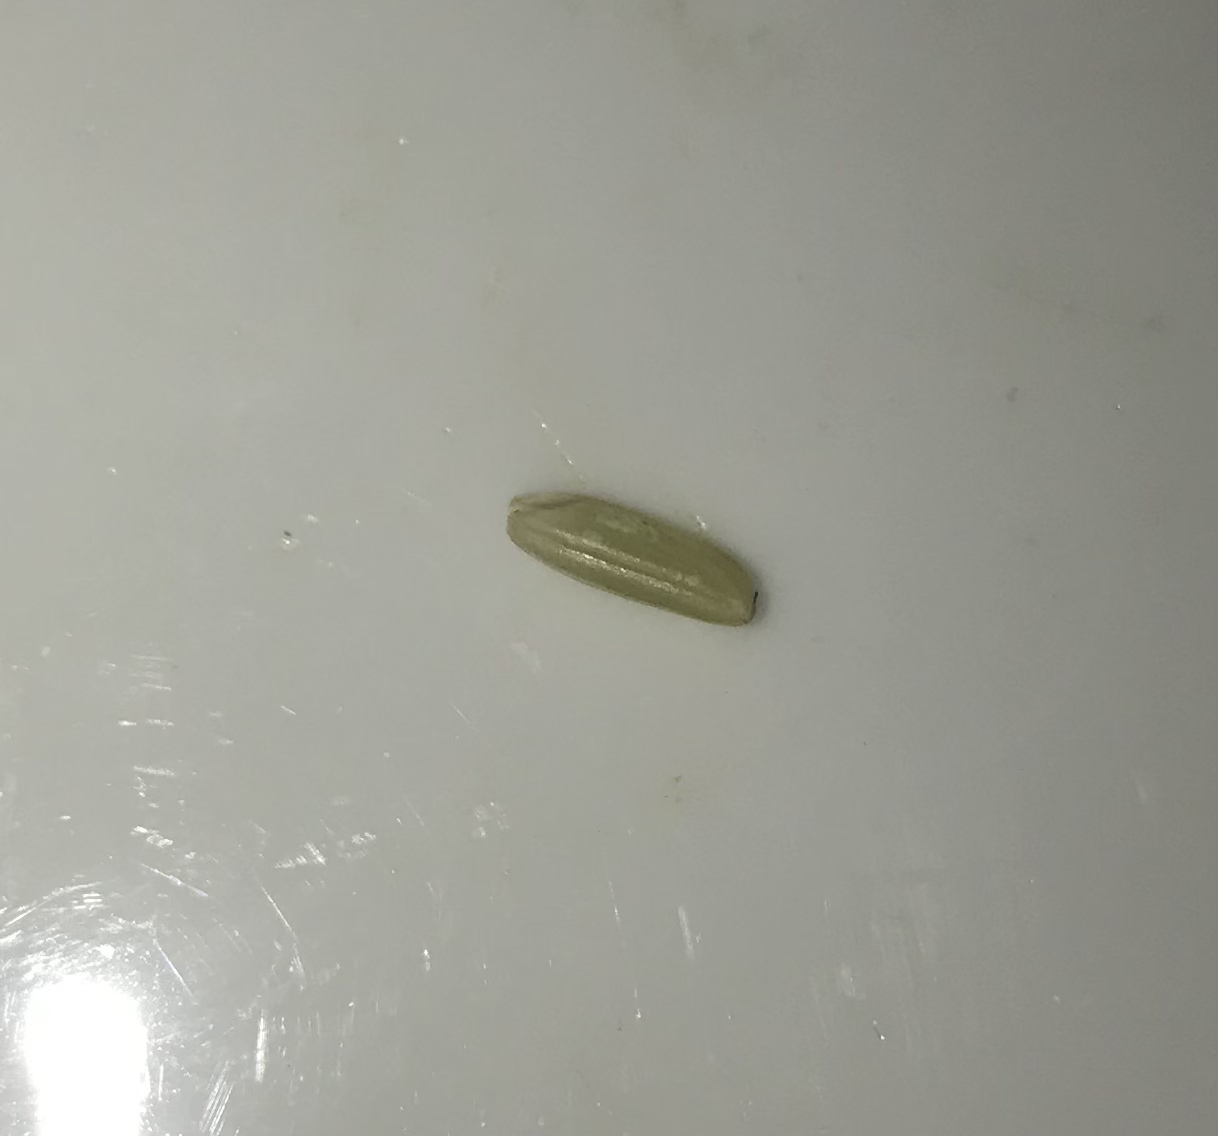Gao Lut Trang: (500, 457, 766, 645)
